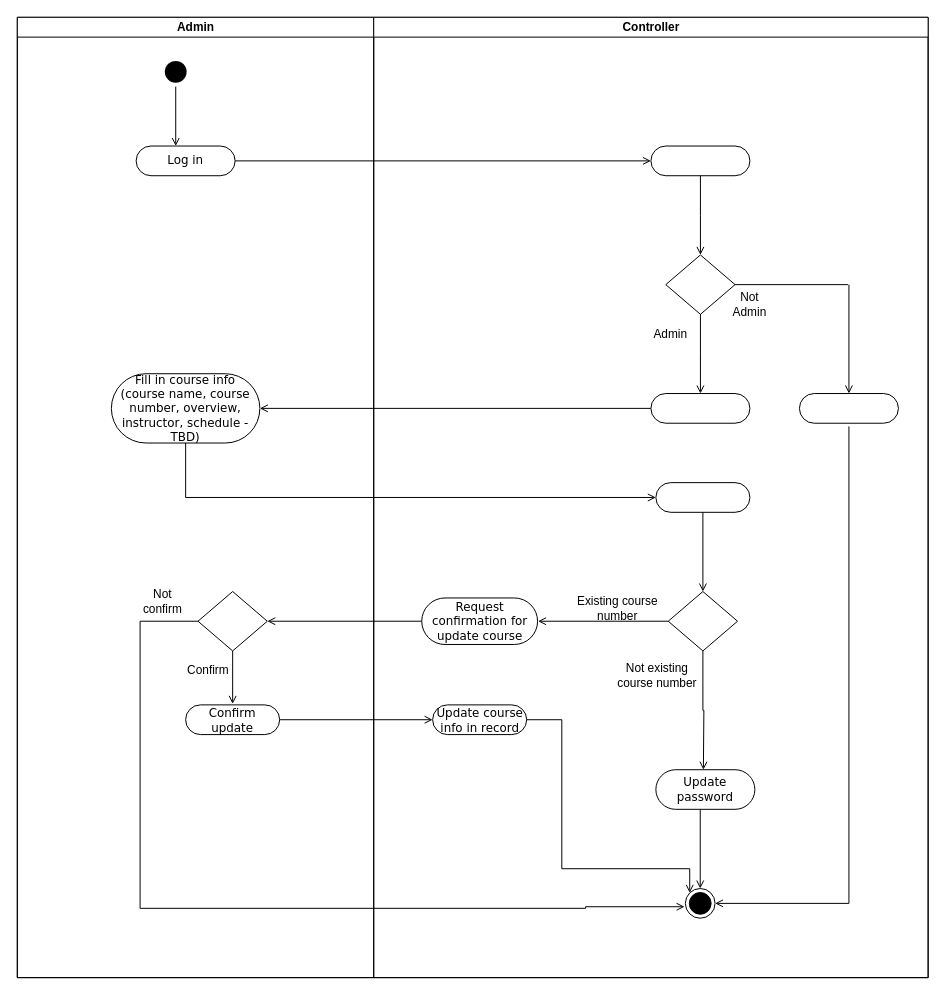
The diagram is 945 pixels wide and 995 high, and some of its shapes have lost their labels. Here are the shapes that lost their labels. From the top down, the centre of each, then its label:
the point at 700,160: Verify user role
the point at 700,408: Allow editing
the point at 848,408: Deny editing
the point at 702,497: Verify course number
